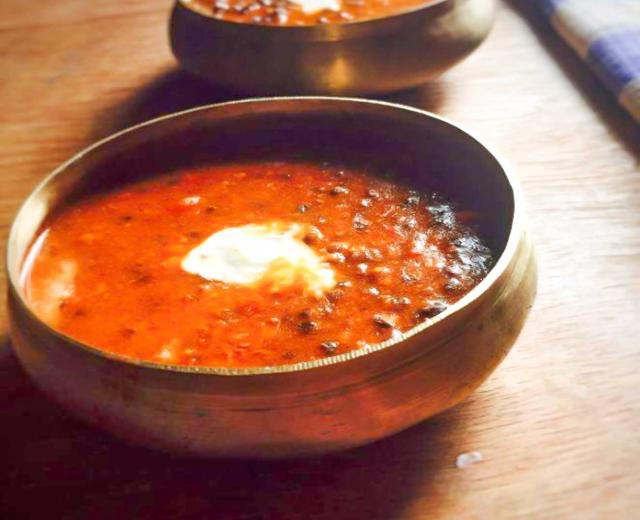dal makhni: (34, 159, 490, 368), (167, 0, 494, 93), (52, 189, 246, 326), (88, 168, 340, 254), (178, 1, 450, 25)
